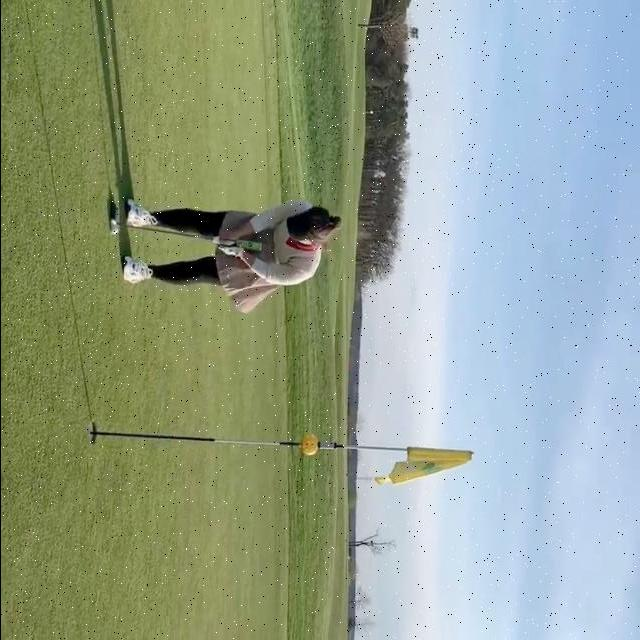golf ball: (109, 225, 117, 235)
golf club-handle: (109, 205, 262, 252)
golf club-head: (109, 206, 118, 226)
